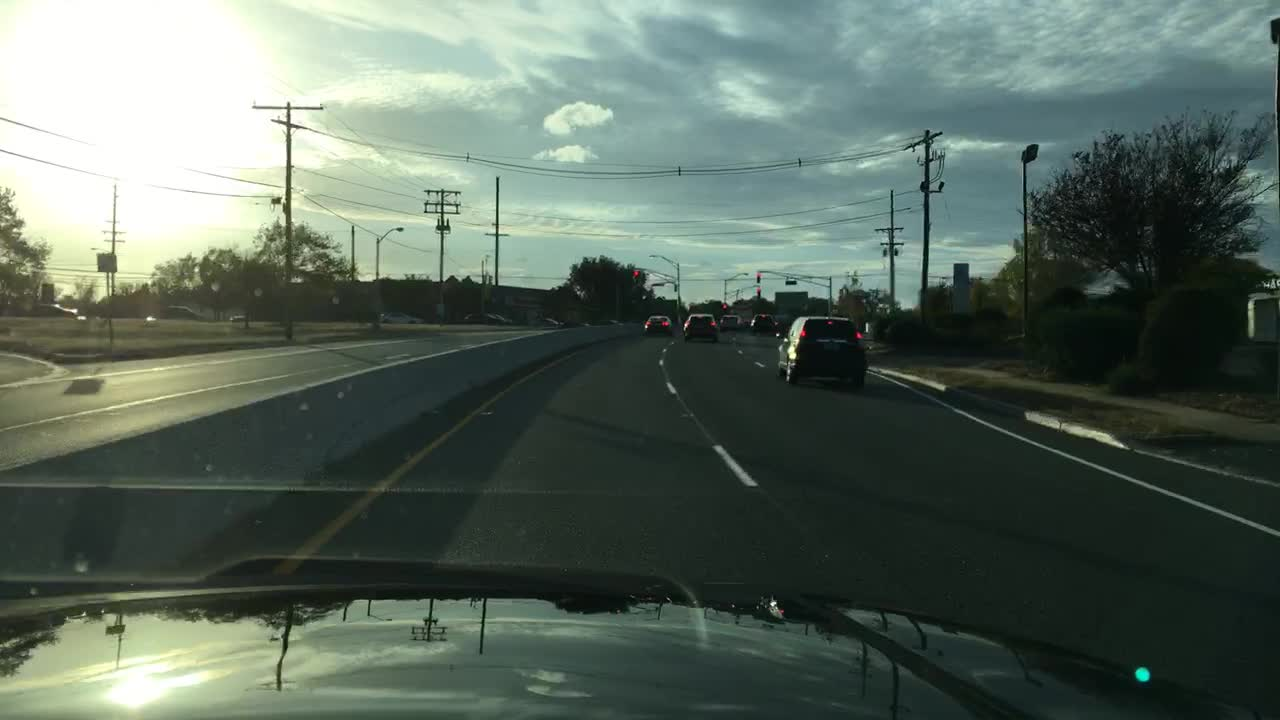car: (776, 312, 870, 388), (681, 311, 718, 343), (165, 302, 202, 322), (462, 309, 511, 324), (641, 314, 673, 336), (747, 311, 777, 334), (32, 301, 77, 316), (381, 309, 425, 324), (718, 311, 742, 331), (531, 311, 561, 326), (229, 309, 248, 324), (597, 314, 622, 324), (565, 319, 593, 326)
traffic light: (632, 268, 641, 285), (754, 268, 762, 285), (754, 285, 762, 300), (720, 295, 728, 310)
